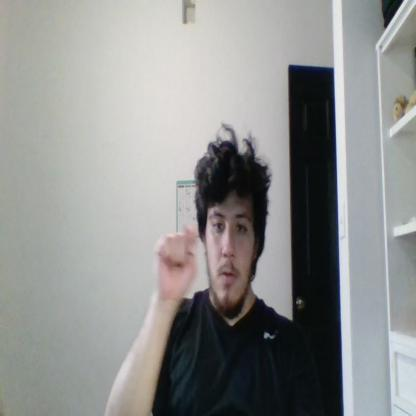T: (155, 224, 198, 298)
